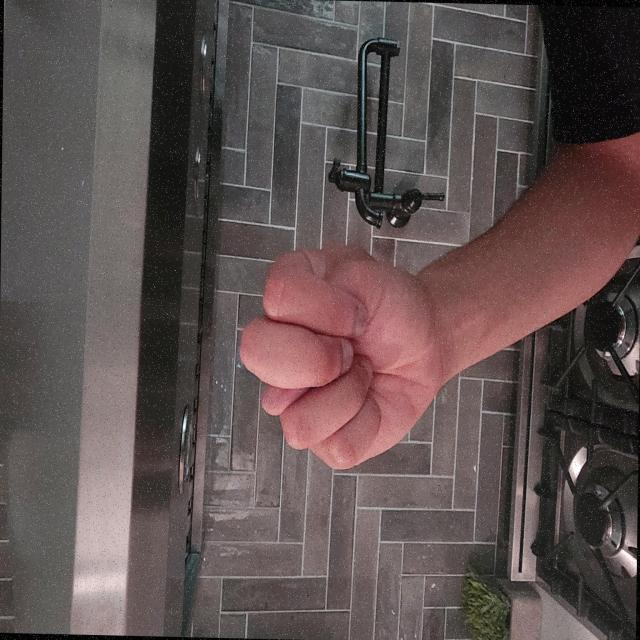N: (117, 307, 305, 595)
